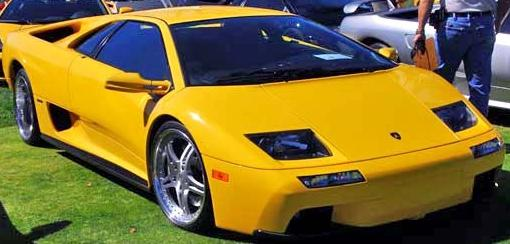front_view: (236, 115, 504, 228)
headlight: (247, 127, 326, 166)
side_glass: (70, 18, 174, 91)
